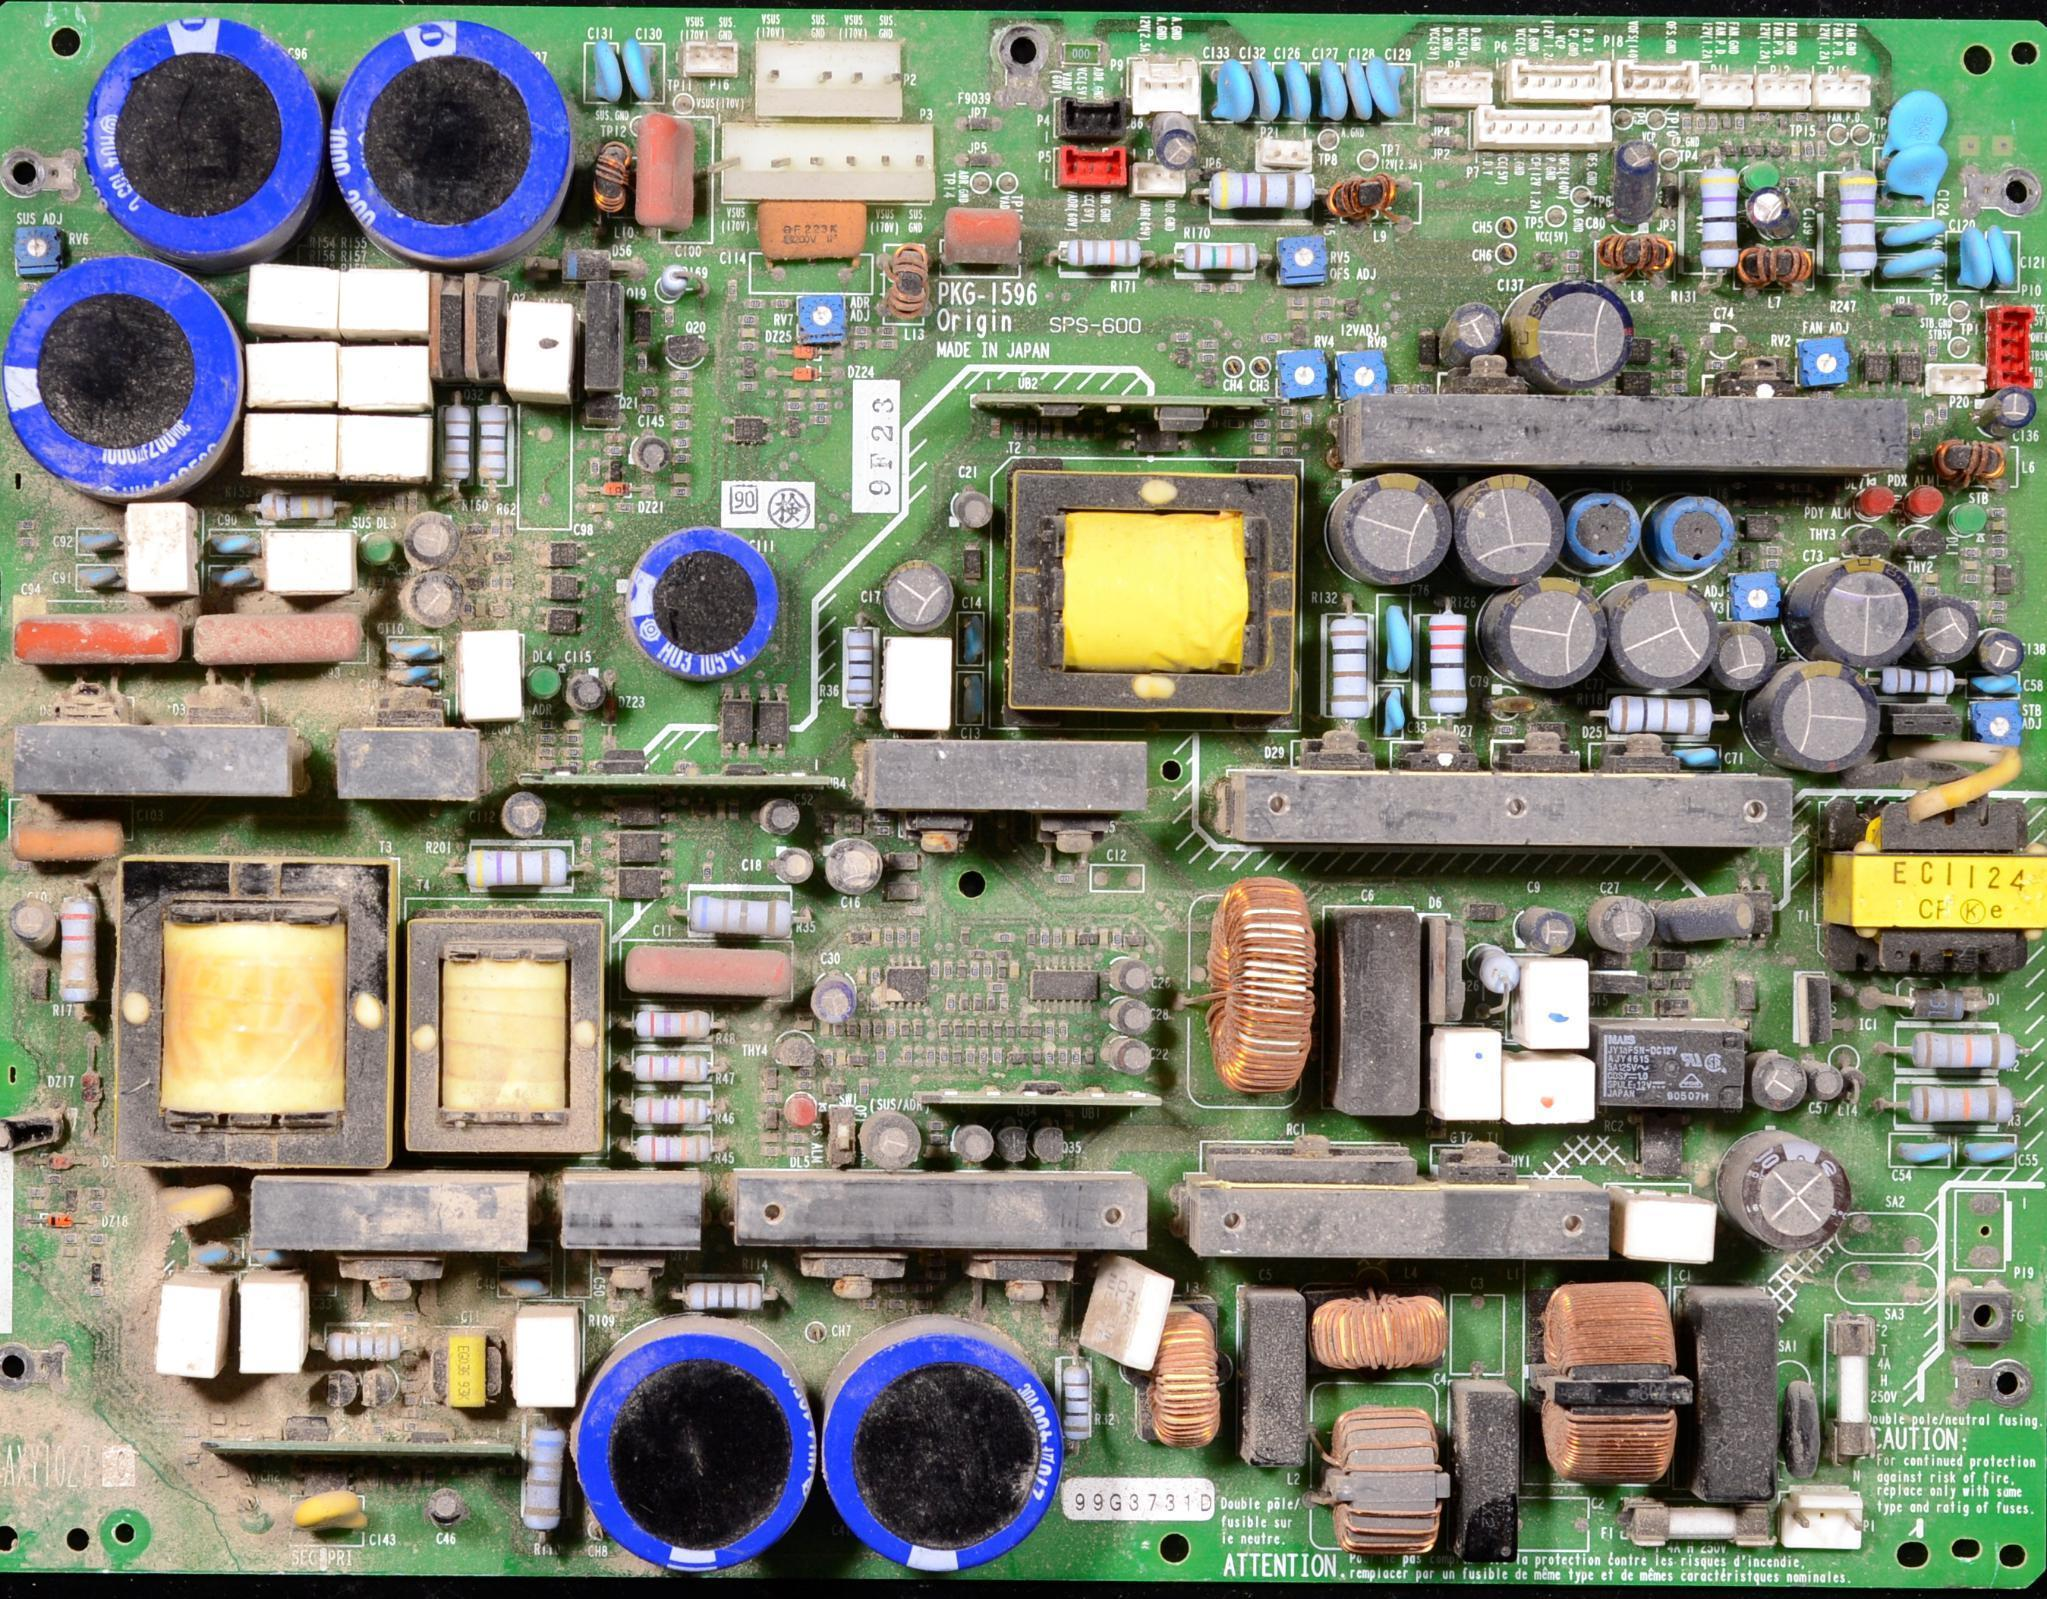Capacitor: (1737, 1132, 1848, 1261), (1449, 468, 1562, 587), (1512, 290, 1624, 395), (1497, 577, 1602, 689), (1331, 479, 1451, 577), (190, 608, 372, 670), (1605, 584, 1714, 684), (16, 613, 188, 678), (1805, 558, 1905, 665), (1775, 659, 1877, 762), (633, 111, 708, 246), (754, 197, 865, 280), (6, 819, 117, 876), (935, 207, 1023, 269), (1916, 598, 1988, 674), (1706, 619, 1774, 691), (1668, 891, 1756, 945), (884, 564, 948, 632), (399, 566, 470, 628), (1879, 143, 1947, 202), (159, 1180, 232, 1231), (1754, 1049, 1810, 1117), (1615, 142, 1665, 214), (290, 1492, 370, 1537), (860, 1116, 922, 1171), (1885, 92, 1948, 146), (1379, 595, 1419, 678), (1149, 107, 1204, 166), (1590, 900, 1654, 951), (1362, 53, 1411, 120), (403, 517, 461, 573), (618, 37, 664, 105), (1340, 58, 1384, 128), (825, 842, 886, 894), (581, 35, 624, 102), (1880, 246, 1947, 287), (1876, 215, 1952, 251), (1521, 907, 1577, 955), (1744, 190, 1804, 235), (1211, 56, 1251, 123), (7, 896, 57, 945), (1448, 303, 1498, 350), (1247, 57, 1285, 123), (501, 792, 552, 840), (1280, 58, 1315, 125), (76, 559, 134, 599), (1982, 387, 2033, 432), (384, 660, 457, 691), (1960, 229, 1996, 294), (1889, 1138, 1961, 1170), (388, 629, 441, 670), (567, 671, 611, 718), (1317, 62, 1349, 127), (1981, 628, 2025, 672), (1990, 226, 2019, 295), (1112, 1032, 1149, 1082), (202, 565, 262, 596), (1969, 668, 2026, 701), (630, 432, 670, 478), (1961, 1136, 2017, 1167), (768, 789, 803, 839), (1112, 992, 1155, 1033), (816, 981, 853, 1026), (204, 528, 254, 560), (952, 486, 987, 531), (69, 529, 124, 556), (1379, 681, 1406, 739), (188, 1236, 240, 1267), (954, 1123, 995, 1160), (426, 1486, 463, 1523), (527, 663, 562, 699), (1112, 958, 1151, 989), (1814, 1059, 1842, 1098), (1672, 742, 1720, 765), (242, 1247, 285, 1271)
Resistor: (623, 944, 795, 1003), (1882, 1026, 2025, 1076), (1894, 1075, 2018, 1125), (1421, 606, 1473, 720), (461, 843, 570, 891), (1607, 689, 1719, 737), (521, 1419, 565, 1540), (1693, 167, 1742, 271), (1832, 170, 1881, 273), (55, 891, 98, 1005), (687, 891, 806, 929), (1211, 170, 1319, 209), (626, 1037, 714, 1082), (1055, 1358, 1098, 1444), (627, 1084, 710, 1129), (476, 401, 517, 490), (626, 1130, 723, 1169), (1470, 941, 1531, 998), (439, 402, 475, 490), (257, 487, 341, 525), (626, 1007, 717, 1037), (319, 1333, 400, 1366), (1882, 665, 1954, 701), (1062, 236, 1141, 267), (683, 1281, 764, 1312), (1178, 241, 1261, 269), (656, 265, 690, 294)
